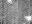person: (9, 0, 13, 5), (26, 16, 31, 19)
